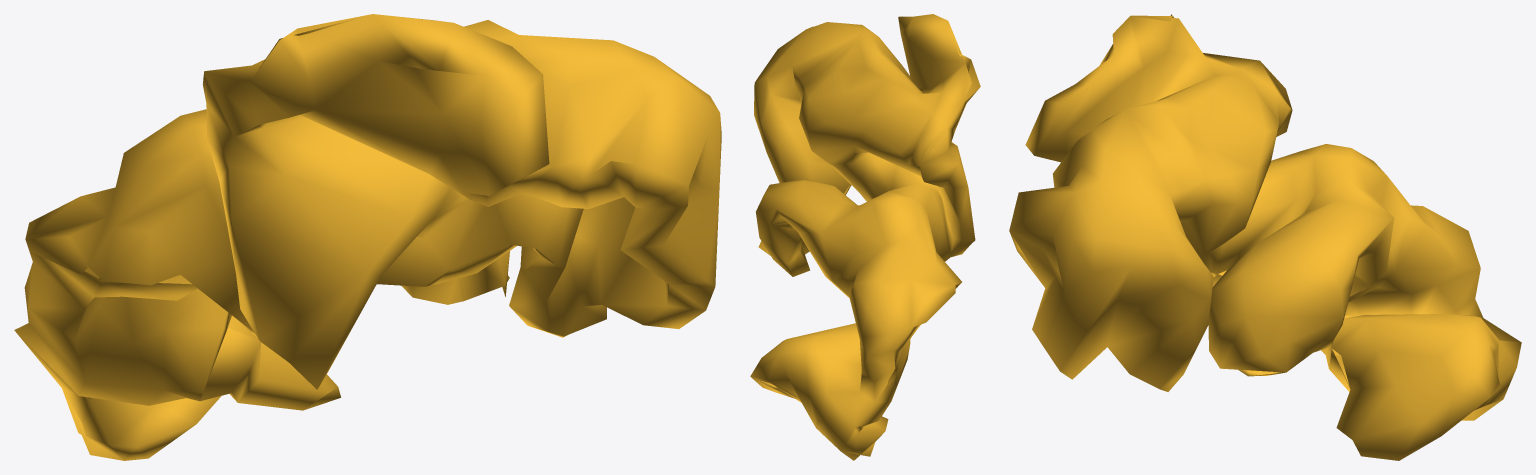
The model's file is nervoso-superior-parietal-lobule-l.glb.
3 views of the same model, side by side, from view 1: azimuth 30°, elevation 25°; view 2: azimuth 150°, elevation 25°; view 3: azimuth 270°, elevation 25° (orthographic). The views are drawn at different scales.
Parts seen in each view (by area): view 1: Superior parietal lobule.l; view 2: Superior parietal lobule.l; view 3: Superior parietal lobule.l.
Part boxes in pixels (x1,y1,x2,y2): Superior parietal lobule.l: (14, 14, 721, 460); Superior parietal lobule.l: (750, 14, 980, 460); Superior parietal lobule.l: (1009, 14, 1521, 460).
Bounding box in the file's own units: 0.0363 × 0.0418 × 0.0448.
